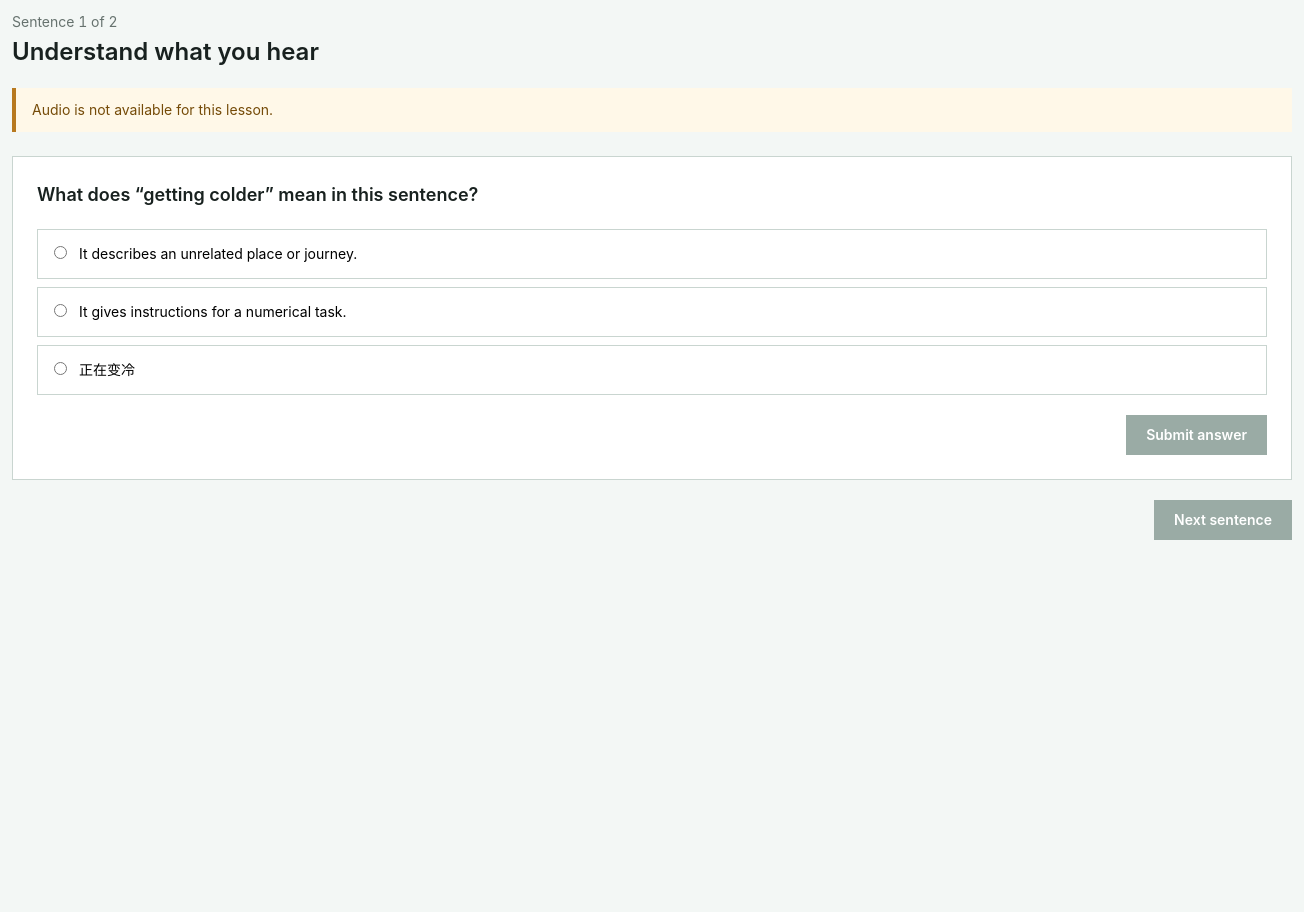
Scenario: Comprehension › submits a generated answer and explains it with the original sentence
Expected: the text "The weather is getting colder." is not shown
Expected: the button "Next sentence" is disabled, [1154,500,1292,540]
Click the radio button labelled "正在变冷".
click(60, 368)  # box [54,362,67,375]
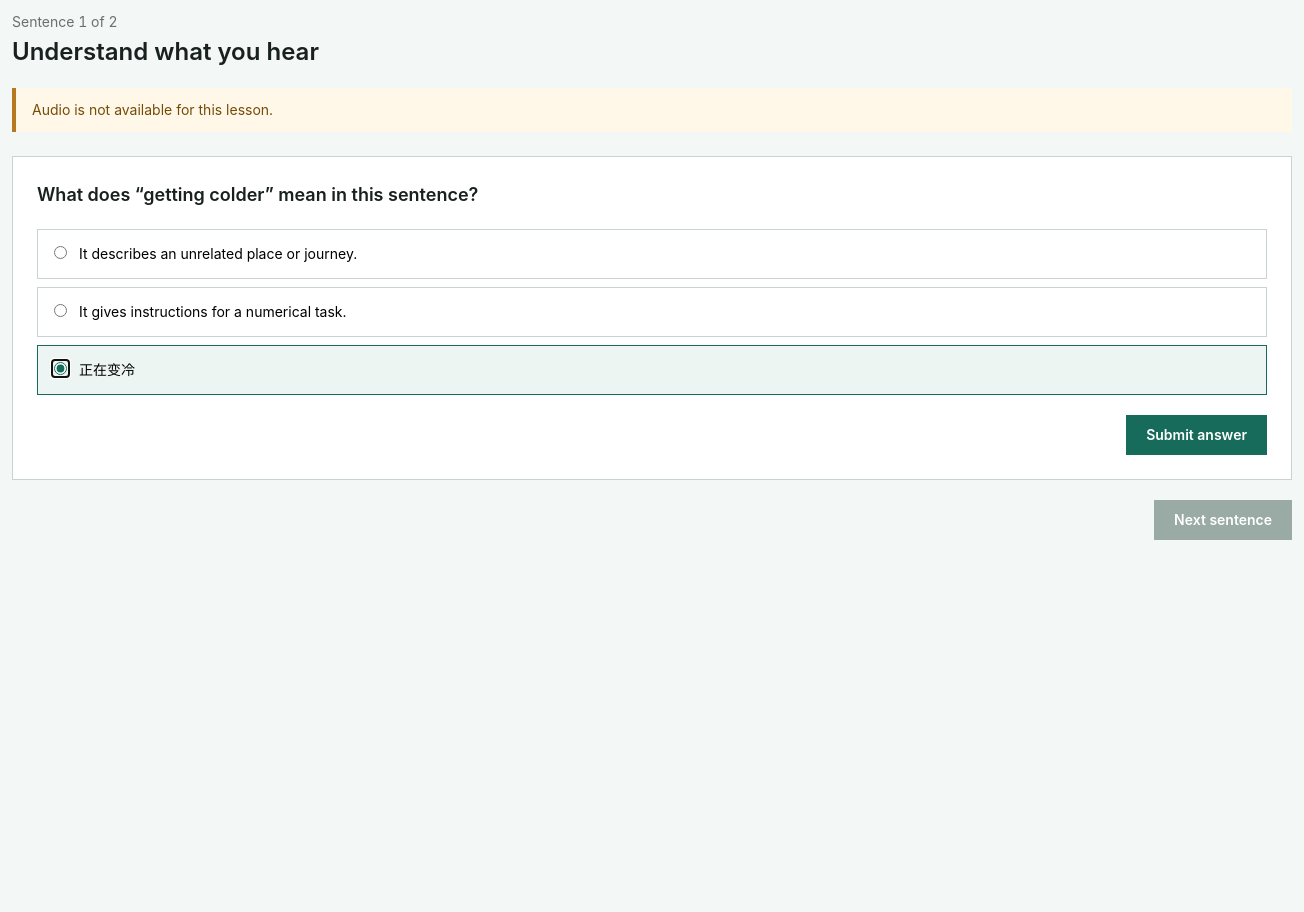
Click the button "Submit answer".
click(1197, 435)  # box [1126,415,1267,455]
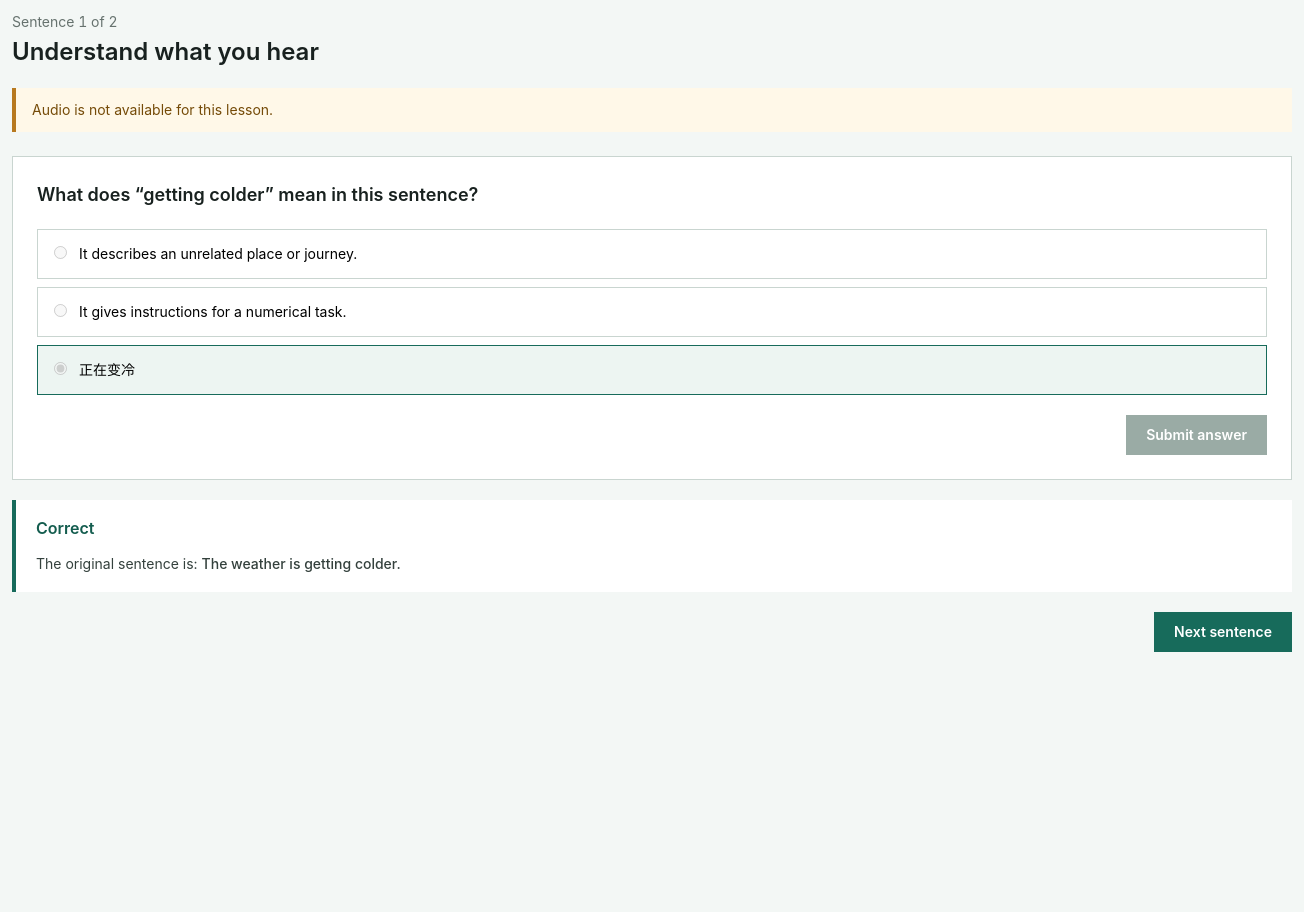
Now the text "Correct" is shown, box [36,518,94,538]
Now the text "The weather is getting colder." is shown, box [202,555,401,572]
Now the button "Next sentence" is enabled, box [1154,612,1292,652]
